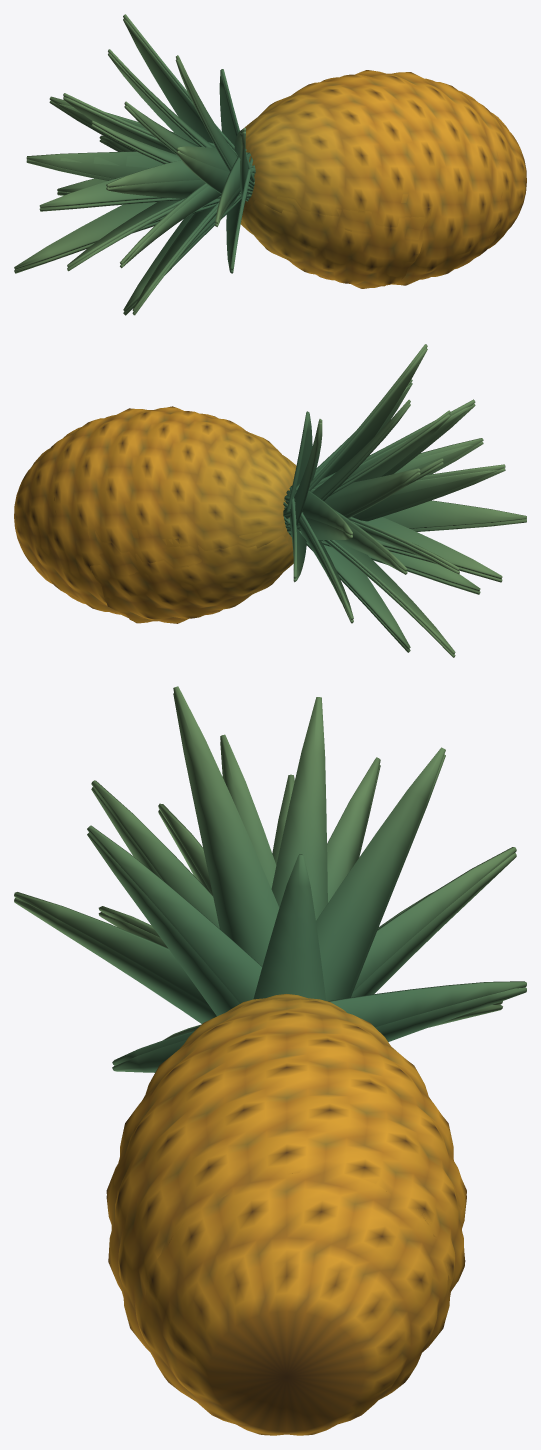
Rendered from pineapple_held.glb.
The picture shows the model from 3 angles, top to bottom: view 1: azimuth 30°, elevation 25°; view 2: azimuth 150°, elevation 25°; view 3: azimuth 270°, elevation 25°; orthographic projection. The views are drawn at different scales.
Parts seen in each view (by area): view 1: eat_0_Body, eat_0_Crown, eat_2_Crown, eat_2_Body, eat_1_Body; view 2: eat_0_Body, eat_0_Crown, eat_2_Crown, eat_2_Body, eat_1_Body; view 3: eat_0_Body, eat_0_Crown, eat_2_Crown, eat_1_Body.
Part boxes in pixels (x1,y1,x2,y2): eat_0_Body: (243, 70, 526, 285); eat_0_Crown: (14, 14, 255, 311); eat_2_Crown: (14, 19, 254, 315); eat_2_Body: (240, 194, 430, 288); eat_1_Body: (245, 72, 502, 279); eat_0_Body: (14, 406, 296, 617); eat_0_Crown: (283, 344, 526, 654); eat_2_Crown: (284, 348, 526, 657); eat_2_Body: (87, 529, 293, 623); eat_1_Body: (54, 408, 294, 601); eat_0_Body: (106, 994, 466, 1435); eat_0_Crown: (14, 686, 526, 1065); eat_2_Crown: (14, 693, 526, 1072); eat_1_Body: (108, 994, 458, 1368).
Bounding box in the file's own units: 0.2246 × 0.1411 × 0.129.
